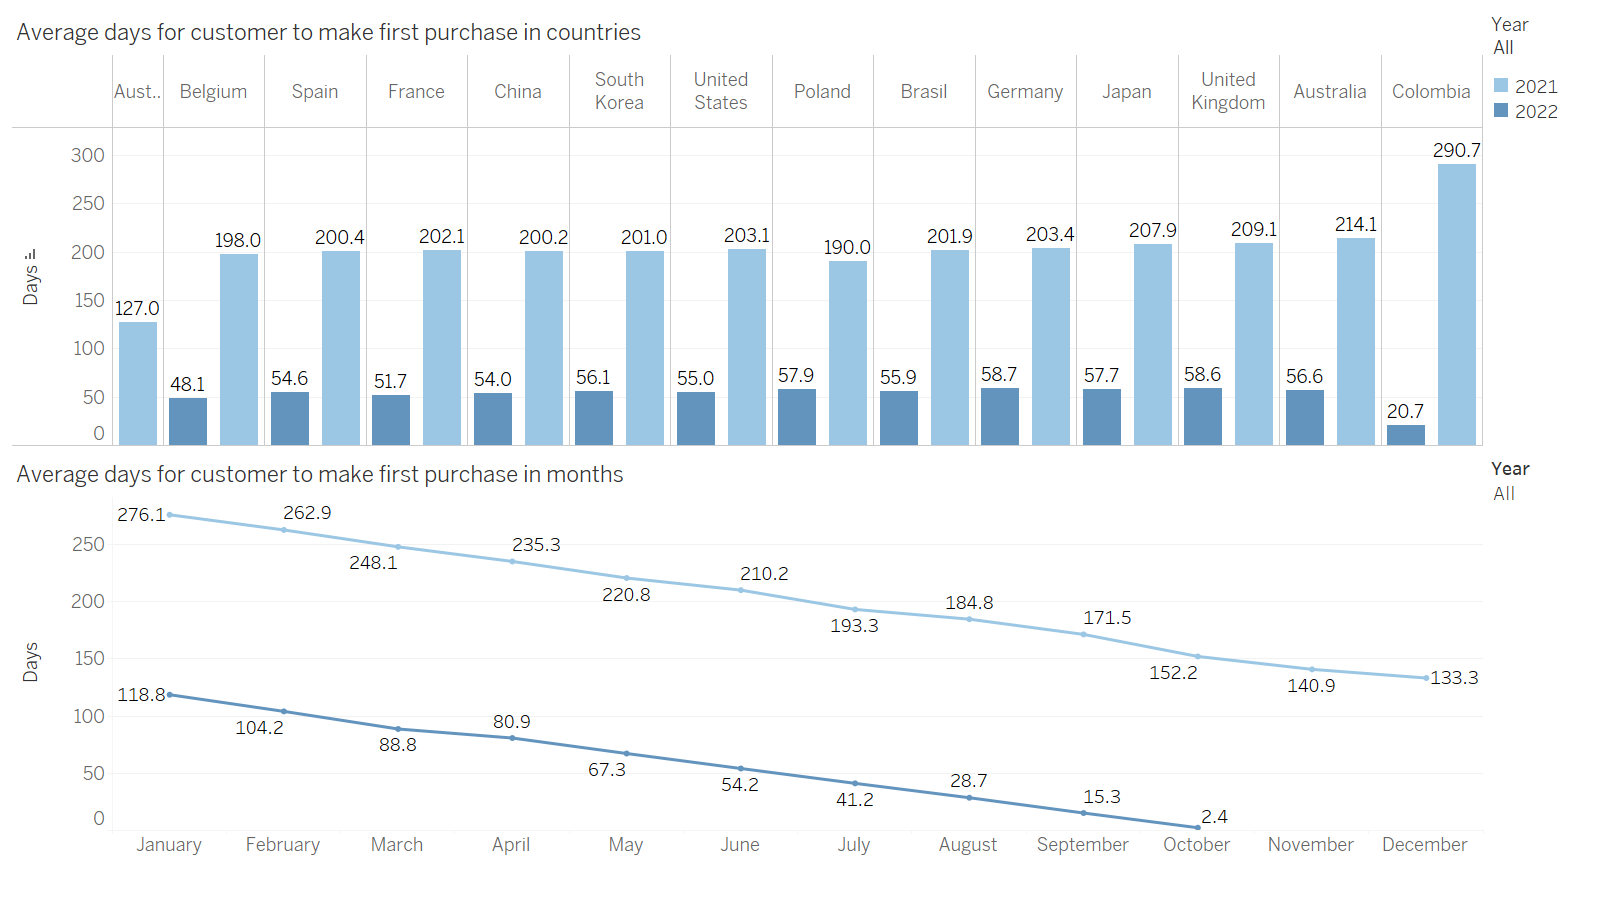

This screenshot's page, from the dashboard's own definition file:
{"tool":"tableau","page":{"name":"First Purchase","canvas":[1600,900],"ordinal":0},"visuals":[{"type":"worksheet","title":"Countries","mark":"Bar","rows":["Calculation_2662190352279609344"],"cols":["country","sign_up_date"],"box":[8,8,1584,442]},{"type":"filter","title":"Countries","param":"[federated.1x31xu61qa4mr21erhxu61gdps4f].[yr:sign_up_date:ok]","box":[1427,9,160,60]},{"type":"worksheet","title":"Months","mark":"Automatic","rows":["Calculation_1771603526001795072"],"cols":["sign_up_date"],"box":[8,450,1584,442]},{"type":"filter","title":"Months","param":"[federated.1x31xu61qa4mr21erhxu61gdps4f].[yr:sign_up_date:ok]","box":[1427,459,160,62]}]}

Visuals, with their boxes in screenshot pixels (x1, y1, x2, y2), scaled from the page's 1600x900 canvas onto the 1600x900 screenshot:
"Countries" worksheet (Bar marks): 8 8 1592 450
"Countries" filter: 1427 9 1587 69
"Months" worksheet: 8 450 1592 892
"Months" filter: 1427 459 1587 521
